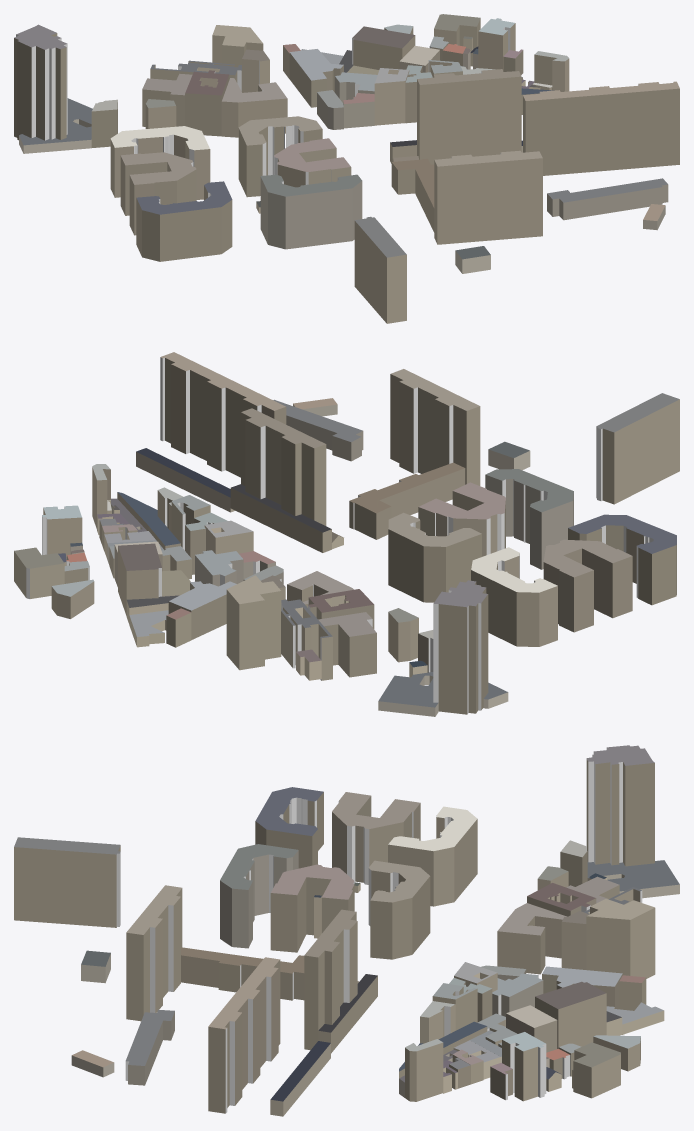
3 views of the same model, one above another, from view 1: azimuth 30°, elevation 25°; view 2: azimuth 150°, elevation 25°; view 3: azimuth 270°, elevation 25° (orthographic). The views are drawn at different scales.
Visible parts, largest first — view 1: tuile; view 2: tuile; view 3: tuile.
Boxes of the visible parts, <box> form: tuile: <box>14,14,679,323</box>; tuile: <box>14,352,679,716</box>; tuile: <box>14,745,679,1116</box>.
Bounding box in the file's own units: 281 × 55.62 × 290.
